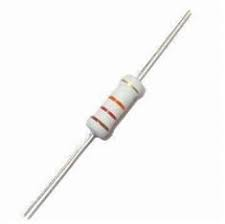resistor: (82, 63, 155, 153)
